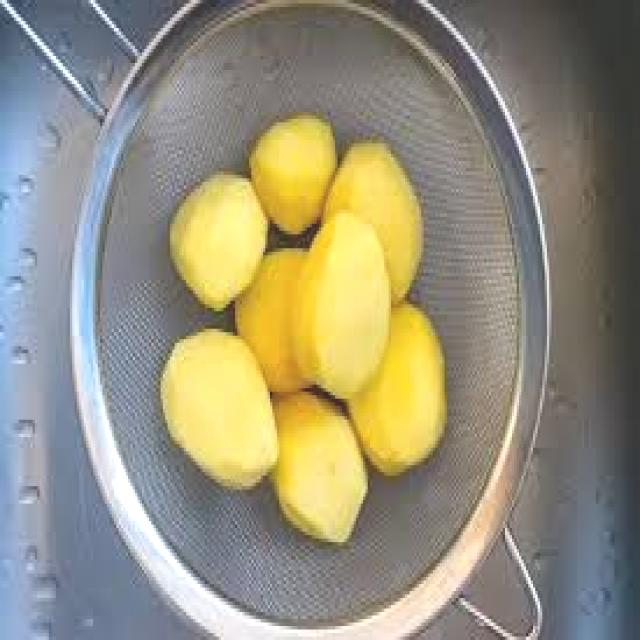kentang rebus: (286, 213, 391, 402), (158, 329, 279, 493), (351, 304, 449, 479), (272, 388, 368, 549), (168, 175, 270, 311), (247, 112, 337, 245)
